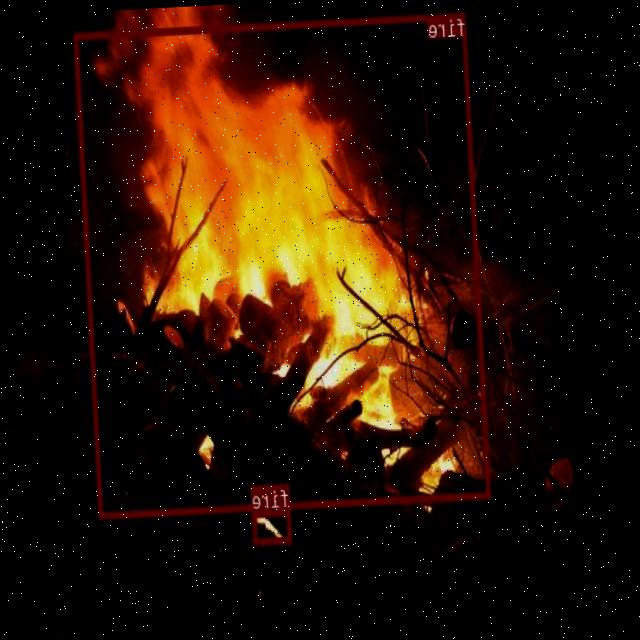fire: (74, 11, 492, 518), (252, 508, 292, 544)
